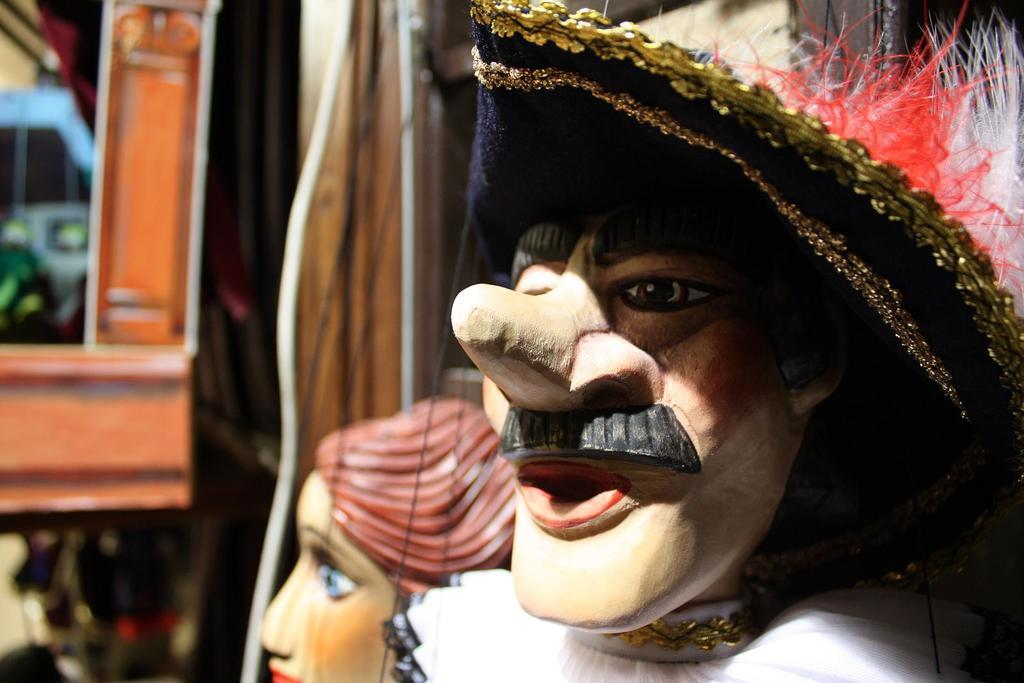Hat: (466, 0, 1024, 588)
